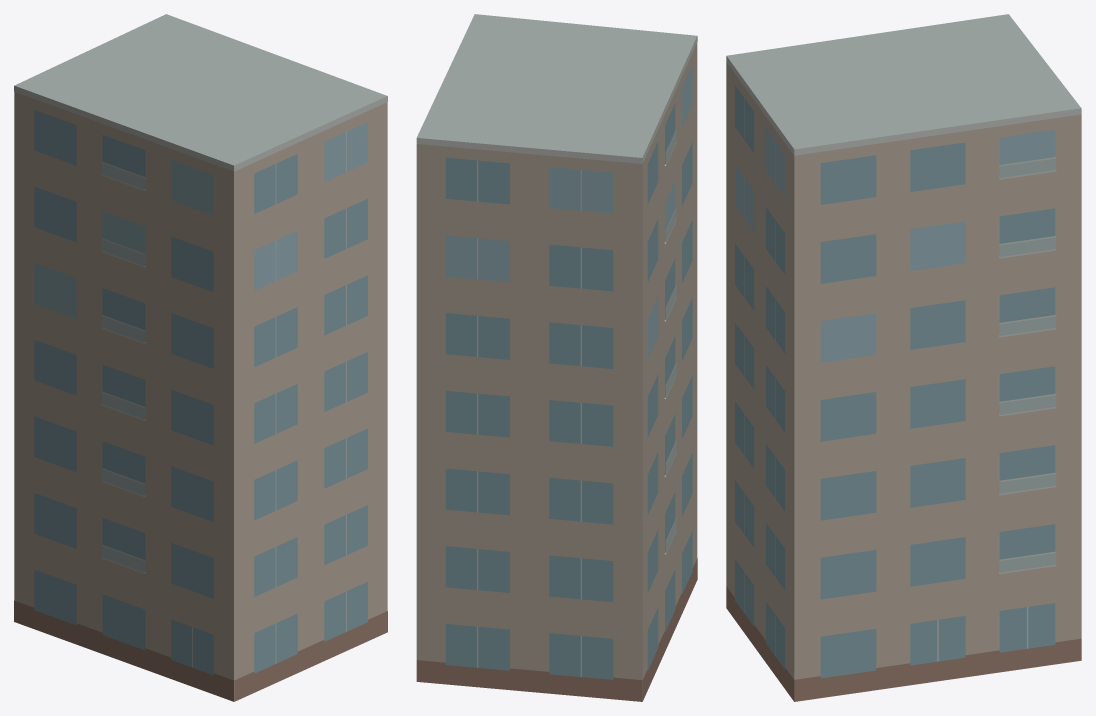
The model's file is survey-upis-32570849.glb.
The picture shows the model from 3 angles, left to right: view 1: azimuth 30°, elevation 25°; view 2: azimuth 150°, elevation 25°; view 3: azimuth 270°, elevation 25°; orthographic projection. The views are drawn at different scales.
Parts seen in each view (by area): view 1: survey-upis-32570849.tmp; view 2: survey-upis-32570849.tmp; view 3: survey-upis-32570849.tmp.
Boxes of the visible parts, left/top/right/bottom form: survey-upis-32570849.tmp: left=14, top=14, right=387, bottom=701; survey-upis-32570849.tmp: left=416, top=14, right=697, bottom=701; survey-upis-32570849.tmp: left=726, top=14, right=1081, bottom=701.
Size of the model in its own units: 11.42 by 21.7 by 12.65.
